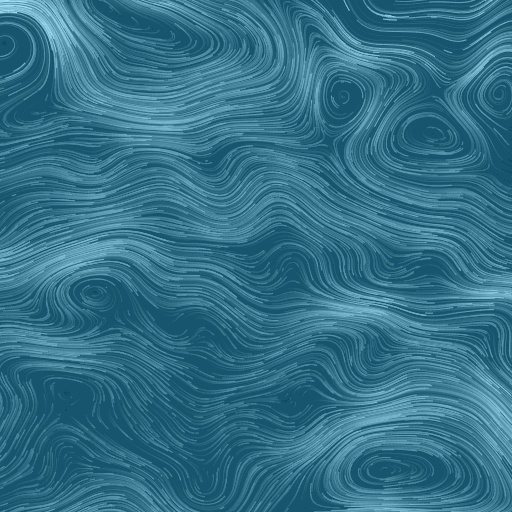eddy: (314, 422, 476, 505), (314, 62, 377, 136), (395, 111, 462, 156), (72, 279, 119, 311), (488, 78, 510, 105)
